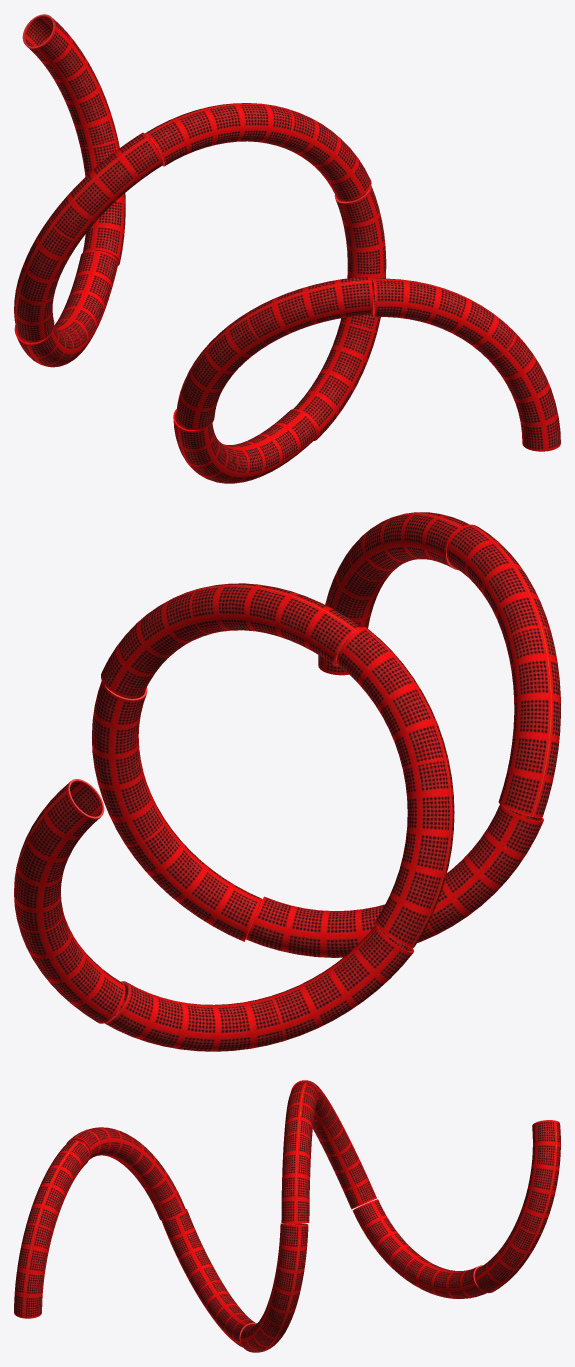
File: spiral.fbx
3 views of the same model, one above another, from view 1: azimuth 30°, elevation 25°; view 2: azimuth 150°, elevation 25°; view 3: azimuth 270°, elevation 25° (orthographic). The views are drawn at different scales.
Parts seen in each view (by area): view 1: ringCurve, ringCurve (1), ringCurve (5), ringCurve (4), ringCurve (7), ringCurve (3), ringCurve (2), ringCurve (6); view 2: ringCurve (5), ringCurve (6), ringCurve (1), ringCurve (3), ringCurve (4), ringCurve (7), ringCurve (2), ringCurve; view 3: ringCurve (7), ringCurve, ringCurve (6), ringCurve (3), ringCurve (4), ringCurve (2), ringCurve (1), ringCurve (5).
Boxes of the visible parts, x1,y1,x2,y2 form: ringCurve: (371,278,560,451); ringCurve (1): (176,276,372,430); ringCurve (5): (14,132,162,341); ringCurve (4): (145,103,371,200); ringCurve (7): (22,14,125,265); ringCurve (3): (293,186,386,440); ringCurve (2): (173,409,317,483); ringCurve (6): (14,250,118,367); ringCurve (5): (336,627,454,947); ringCurve (6): (104,924,413,1051); ringCurve (1): (446,524,560,817); ringCurve (3): (92,681,262,941); ringCurve (4): (101,583,361,697); ringCurve (7): (14,779,125,1023); ringCurve (2): (246,804,543,957); ringCurve: (318,512,469,675); ringCurve (7): (475,1120,560,1293); ringCurve: (14,1140,89,1318); ringCurve (6): (352,1199,486,1298); ringCurve (3): (240,1223,308,1352); ringCurve (4): (281,1082,318,1223); ringCurve (2): (161,1209,256,1347); ringCurve (1): (66,1127,185,1220); ringCurve (5): (291,1080,376,1209).
Size of the model in its own units: 535 by 522 by 1072.
1 material, 1 textured.
